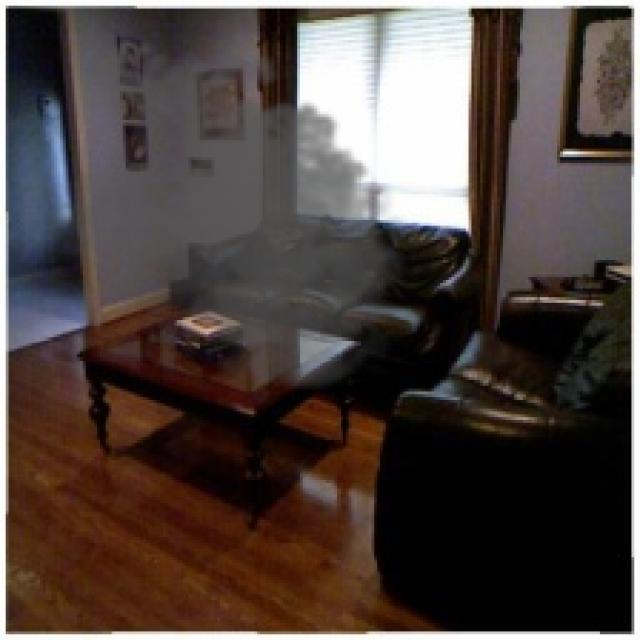Smoke: (48, 29, 423, 398)
